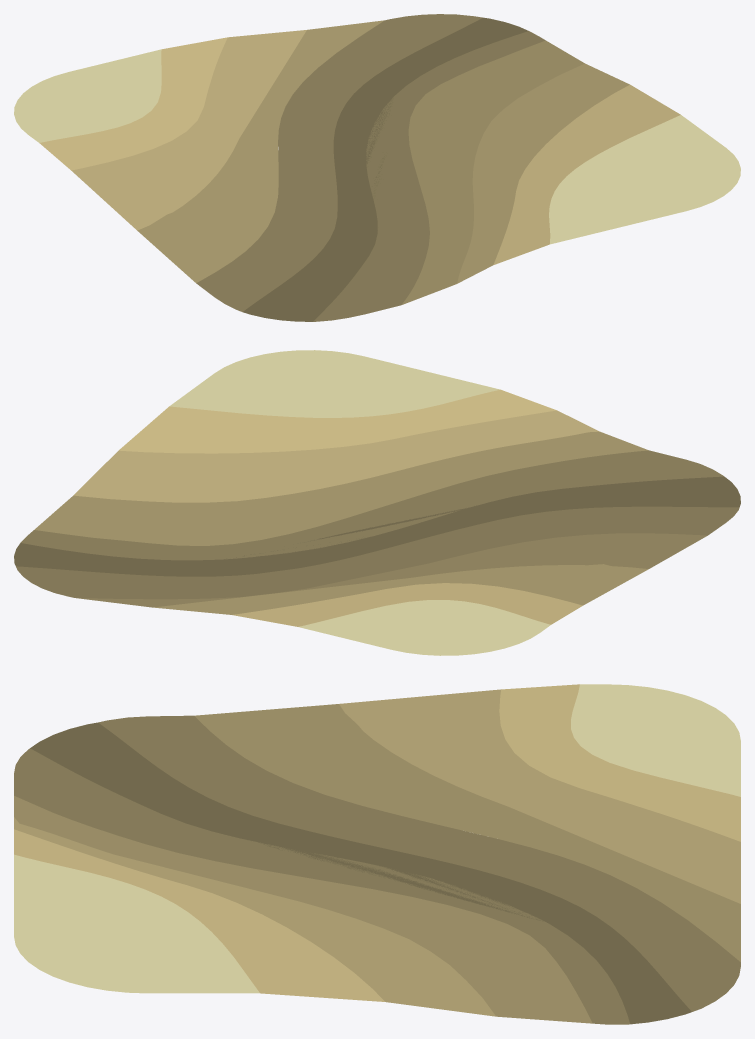
The model's file is EnvDunes.fbx.
3 views of the same model, one above another, from view 1: azimuth 30°, elevation 25°; view 2: azimuth 150°, elevation 25°; view 3: azimuth 270°, elevation 25° (orthographic). The views are drawn at different scales.
Visible parts, largest first — view 1: Ground.001; view 2: Ground.001; view 3: Ground.001.
Boxes of the visible parts, left/top/right/bottom form: Ground.001: left=14, top=14, right=740, bottom=321; Ground.001: left=14, top=350, right=740, bottom=655; Ground.001: left=14, top=684, right=740, bottom=1024.
Bounding box in the file's own units: 0.1908 × 0.00979 × 0.1908.
